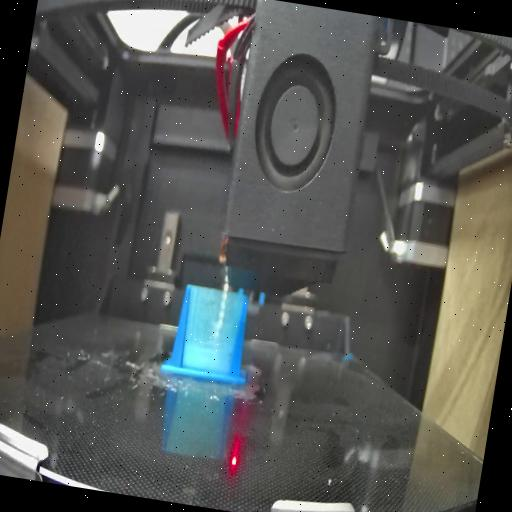stringing: (178, 283, 242, 375)
